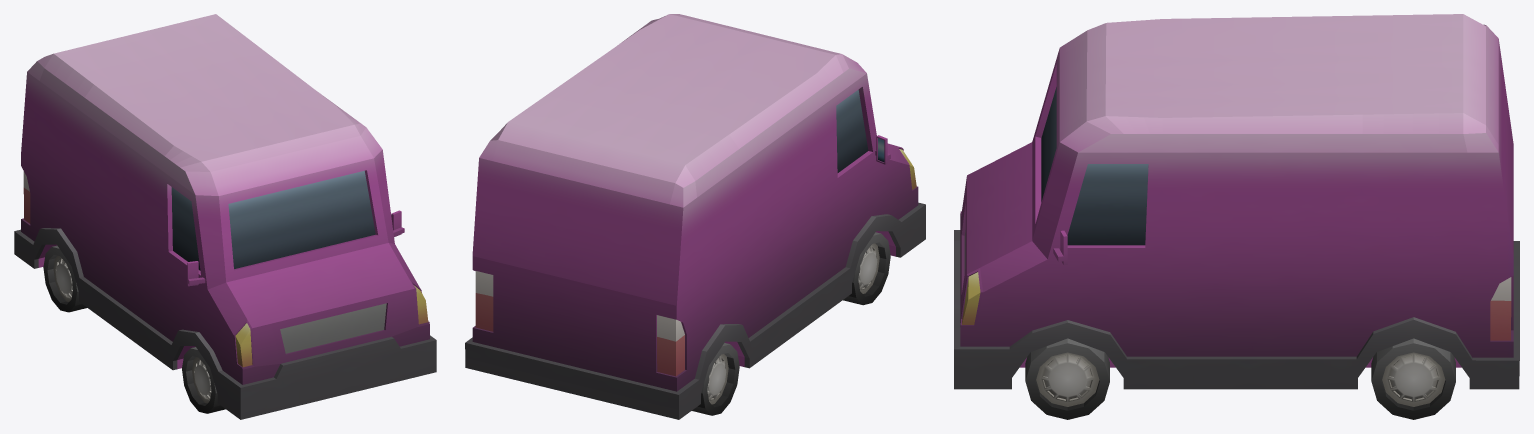
The model's file is Van_03_FBX.fbx.
3 renders of one model, left to right at view 1: azimuth 30°, elevation 25°; view 2: azimuth 150°, elevation 25°; view 3: azimuth 270°, elevation 25°, orthographic. The views are drawn at different scales.
Parts seen in each view (by area): view 1: pCube160; view 2: pCube160; view 3: pCube160.
Part boxes in pixels (x1,y1,x2,y2): pCube160: (14,14,436,419); pCube160: (465,14,925,419); pCube160: (954,14,1519,419).
Size of the model in its own units: 246 by 261 by 448.
